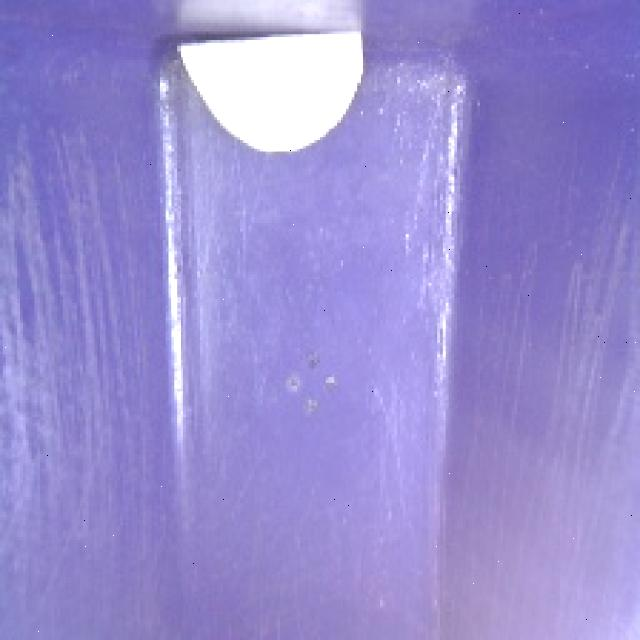white_radish: (160, 7, 380, 165)
